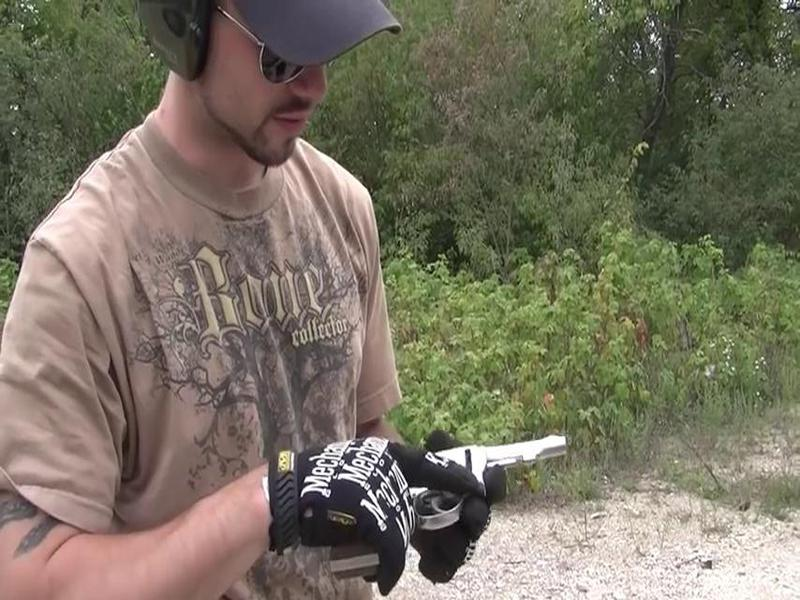Revolver: (351, 434, 567, 560)
